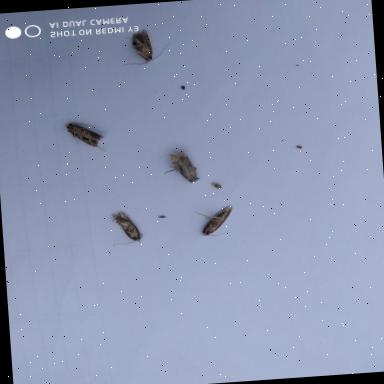pbw: (118, 26, 172, 67), (63, 119, 107, 154), (160, 148, 200, 186), (192, 204, 236, 238), (109, 208, 146, 248), (208, 180, 224, 192)
